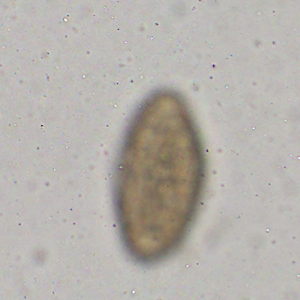Fasciola_hepatica_egg: (113, 87, 207, 265)
